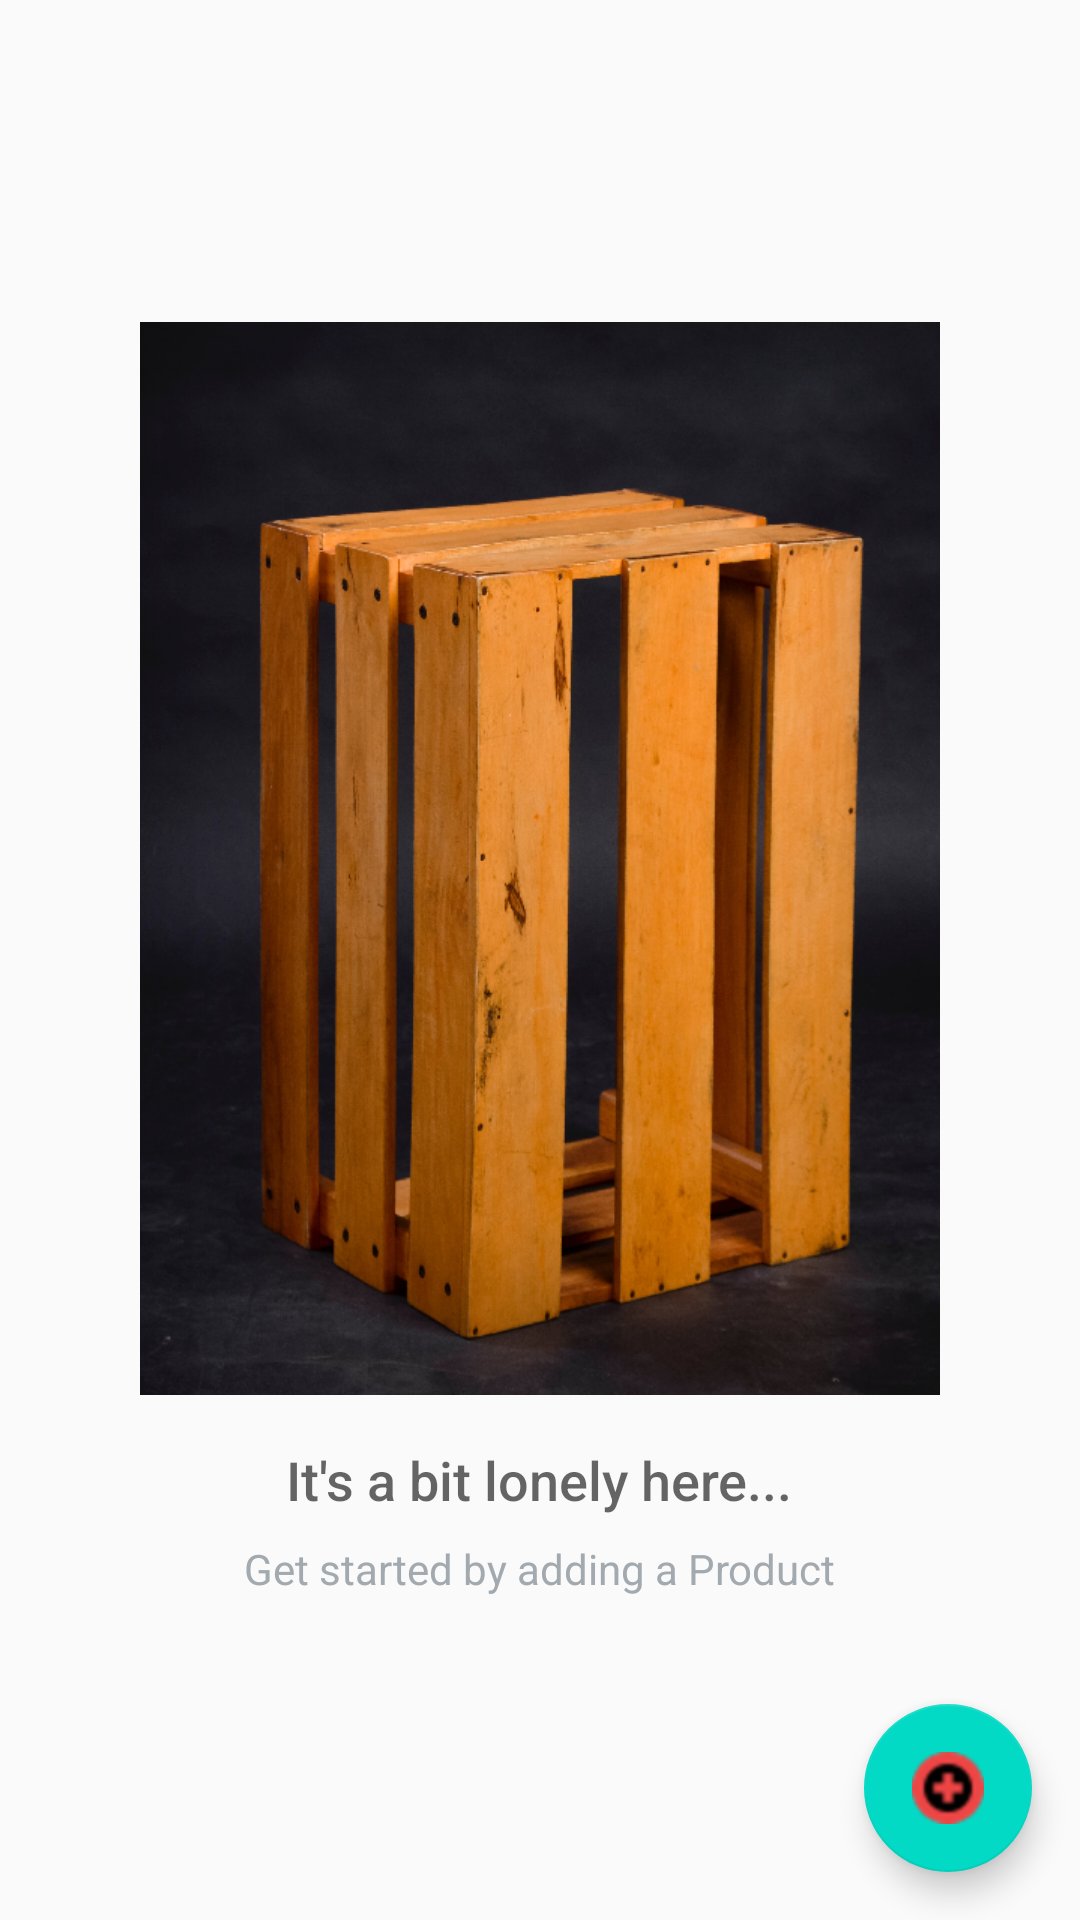

Icons on this 1080w x 1920h Android screen, each with the point to tap as (x=x, y=y):
positive: (x=948, y=1788)
